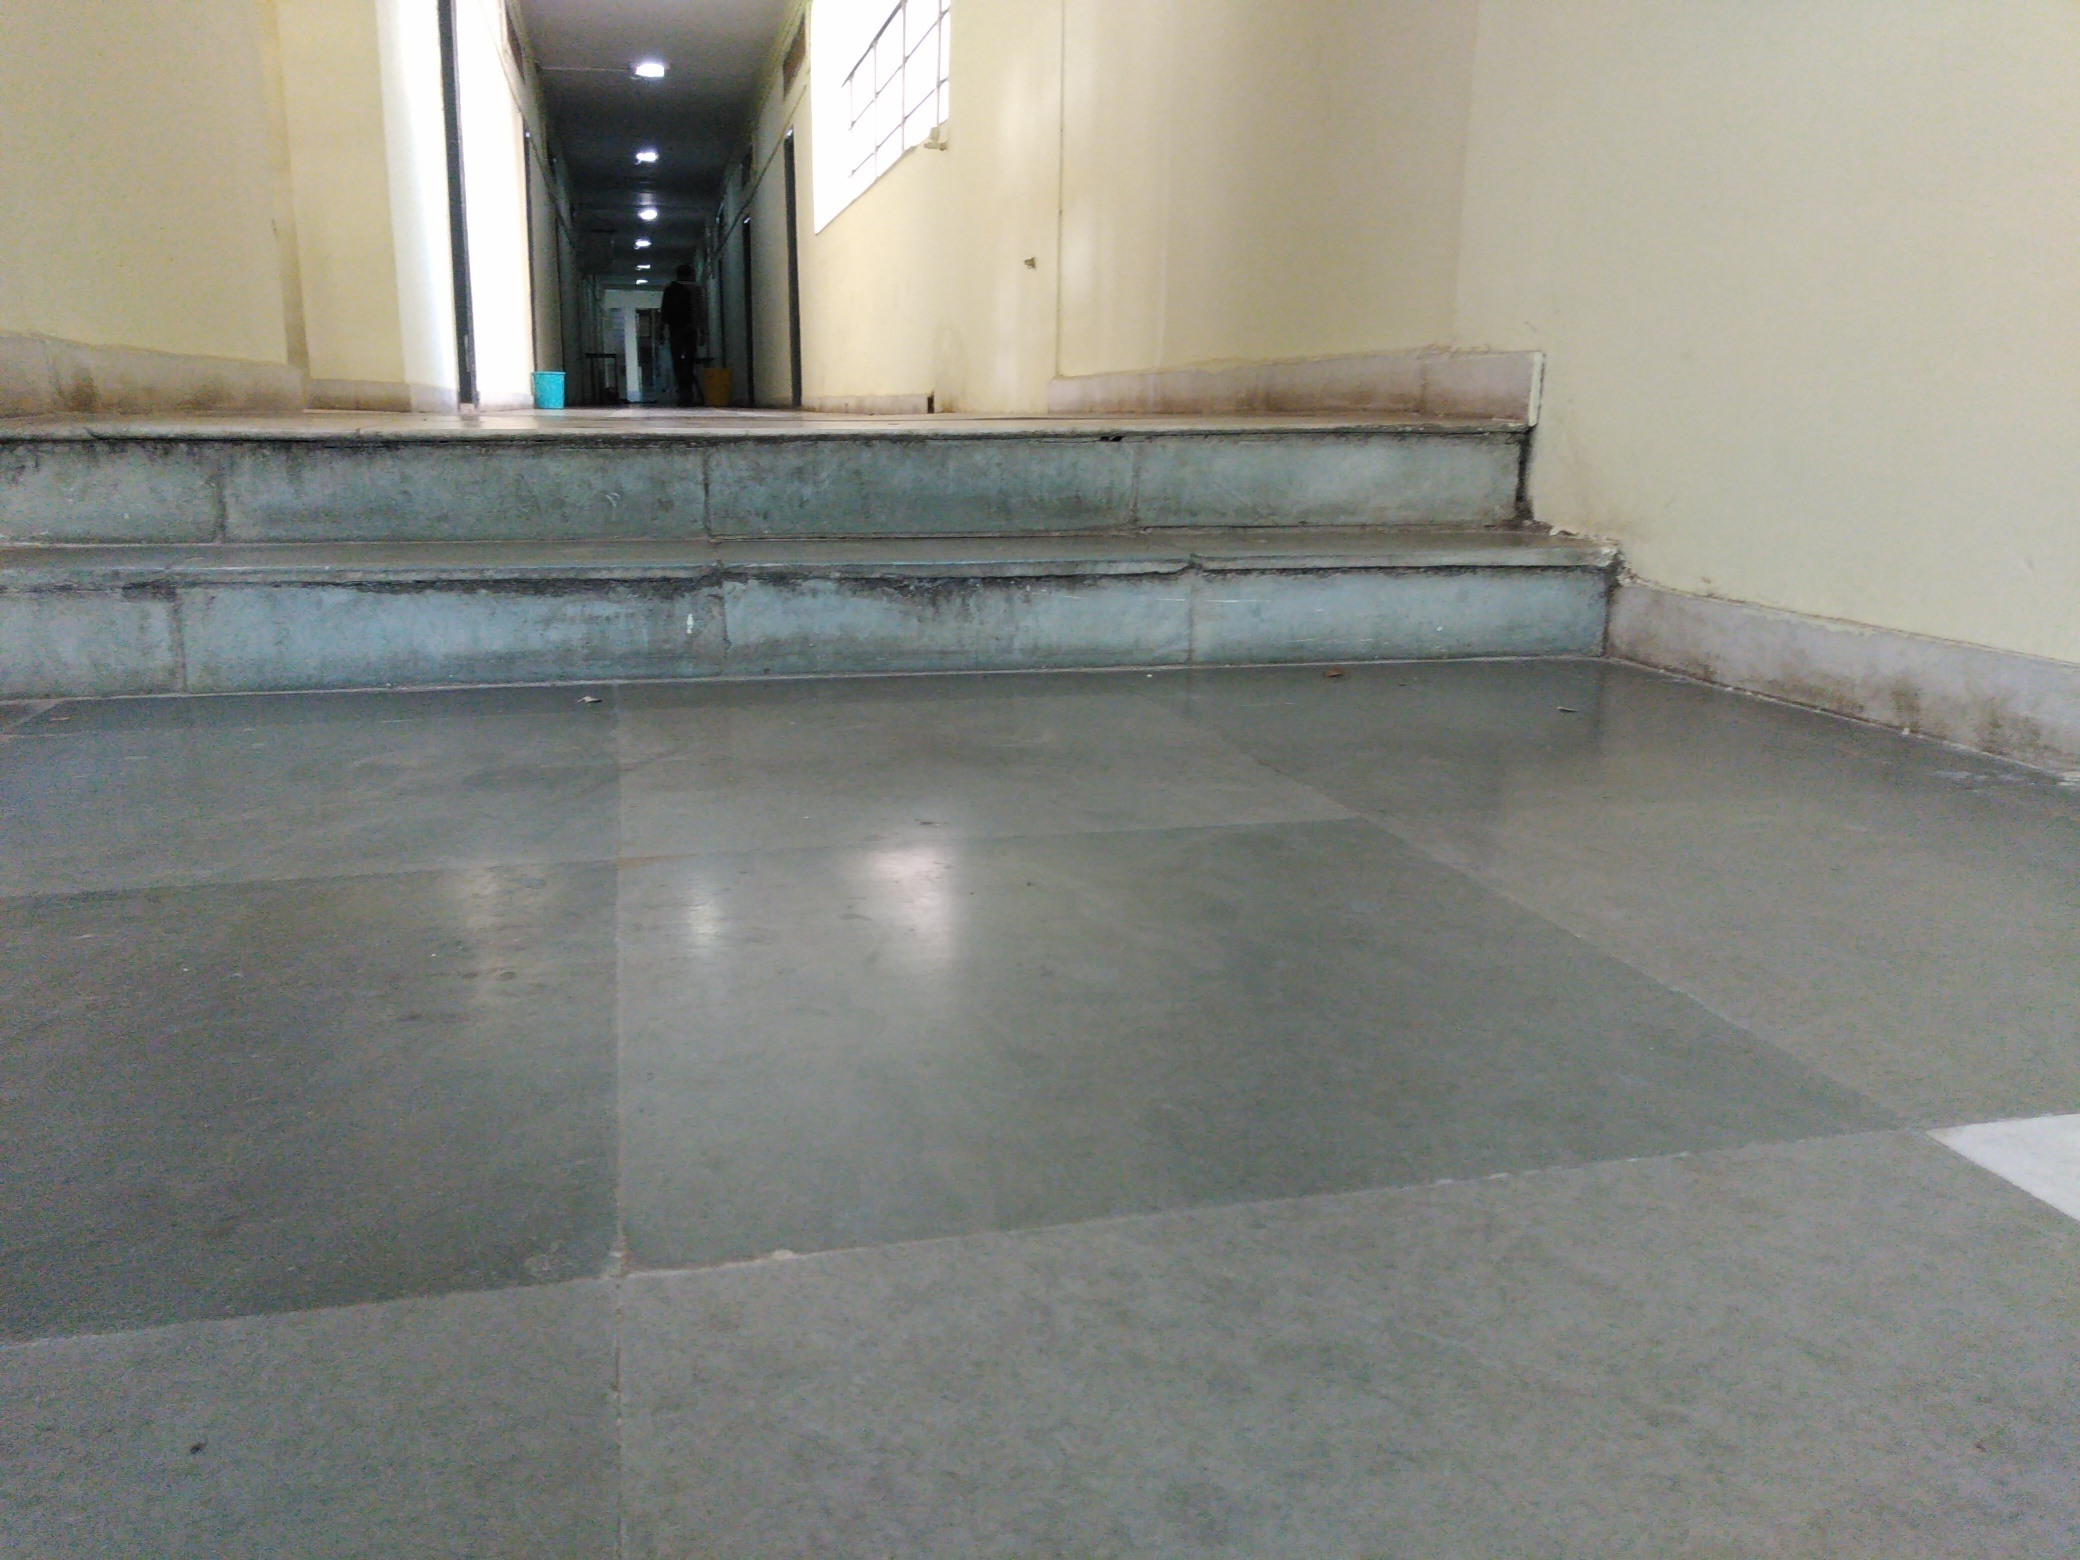stairs_up: (7, 411, 1626, 700)
